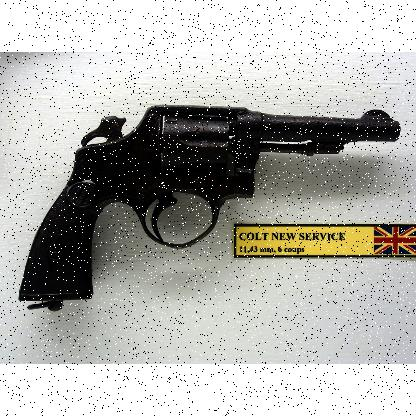gun: (19, 104, 401, 310)
